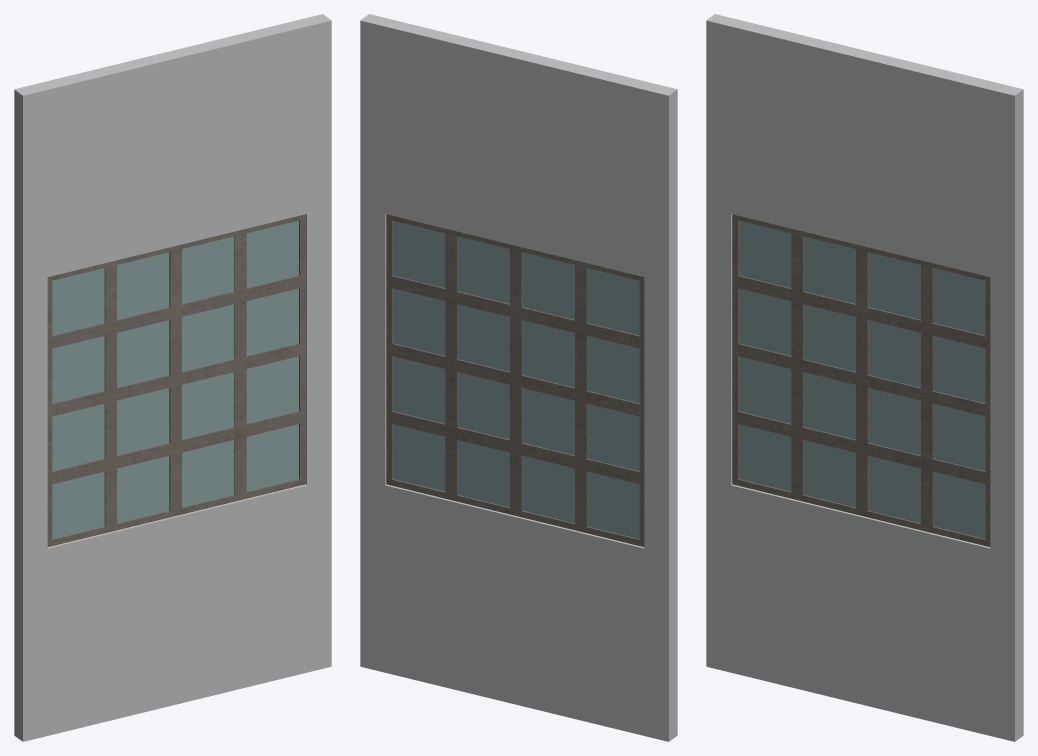
The model's file is BR_Window.fbx.
3 views of the same model, side by side, from view 1: azimuth 30°, elevation 25°; view 2: azimuth 150°, elevation 25°; view 3: azimuth 330°, elevation 25° (orthographic).
Parts seen in each view (by area): view 1: BR_Window, BR_WindowGlass; view 2: BR_Window, BR_WindowGlass; view 3: BR_Window, BR_WindowGlass.
Boxes of the visible parts, x1,y1,x2,y2 form: BR_Window: [14, 14, 331, 741]; BR_WindowGlass: [52, 220, 298, 538]; BR_Window: [360, 14, 677, 741]; BR_WindowGlass: [393, 220, 639, 538]; BR_Window: [706, 14, 1023, 741]; BR_WindowGlass: [739, 220, 985, 538].
Bounding box in the file's own units: 200 × 400 × 10.
